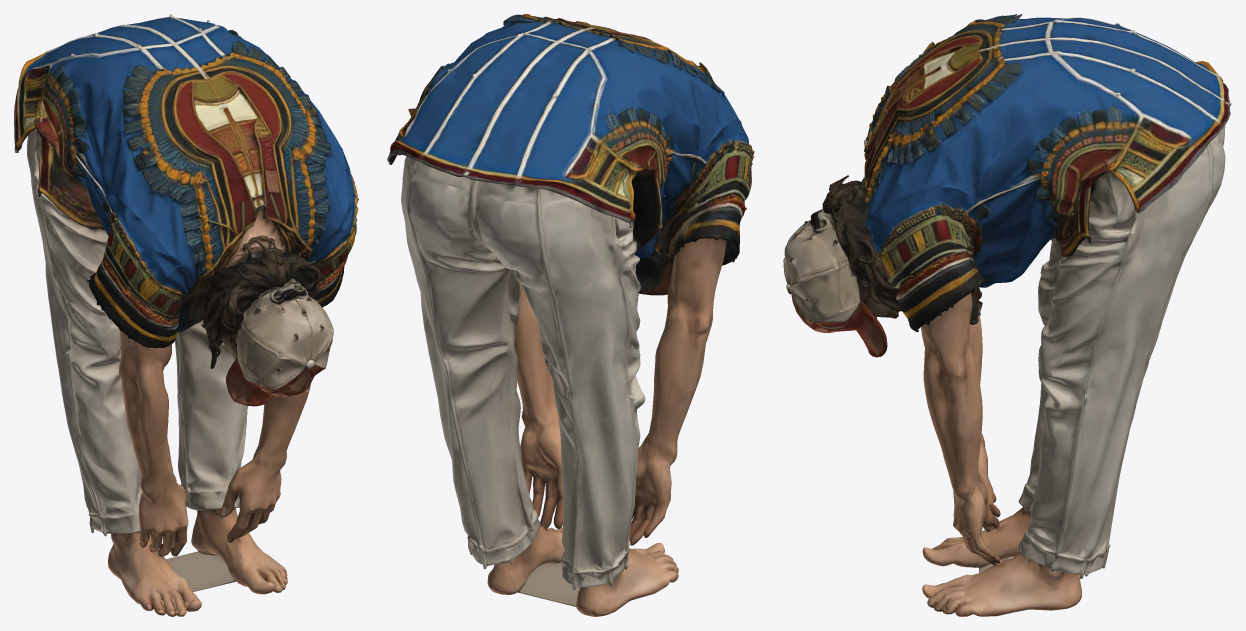
File: iver-10.glb
3 renders of one model, left to right at view 1: azimuth 30°, elevation 25°; view 2: azimuth 150°, elevation 25°; view 3: azimuth 270°, elevation 25°, orthographic. The views are drawn at different scales.
Visible parts, largest first — view 1: tripo_node_86f87719-526e-4266-acff-e17f89a43d99; view 2: tripo_node_86f87719-526e-4266-acff-e17f89a43d99; view 3: tripo_node_86f87719-526e-4266-acff-e17f89a43d99.
Boxes of the visible parts, x1,y1,x2,y2 form: tripo_node_86f87719-526e-4266-acff-e17f89a43d99: [14, 14, 358, 616]; tripo_node_86f87719-526e-4266-acff-e17f89a43d99: [387, 14, 754, 616]; tripo_node_86f87719-526e-4266-acff-e17f89a43d99: [783, 14, 1231, 616].
Size of the model in its own units: 0.4938 by 0.9999 by 0.7401.
Materials: 1 (1 with a texture image).
